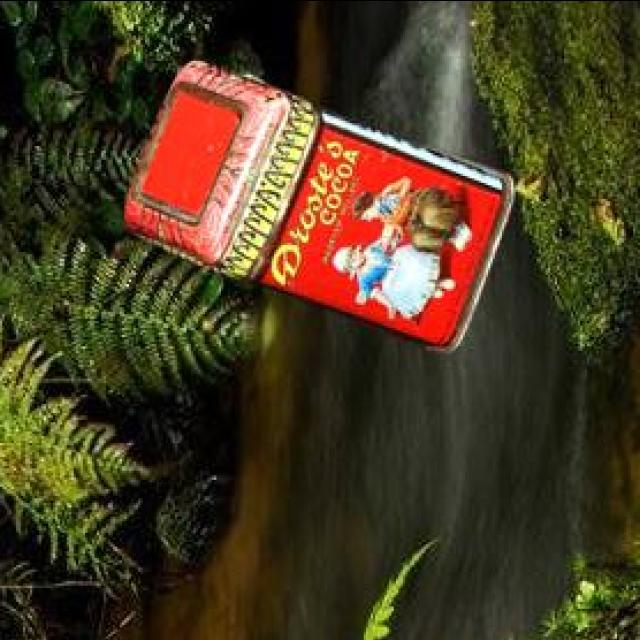logam: (121, 63, 510, 356)
